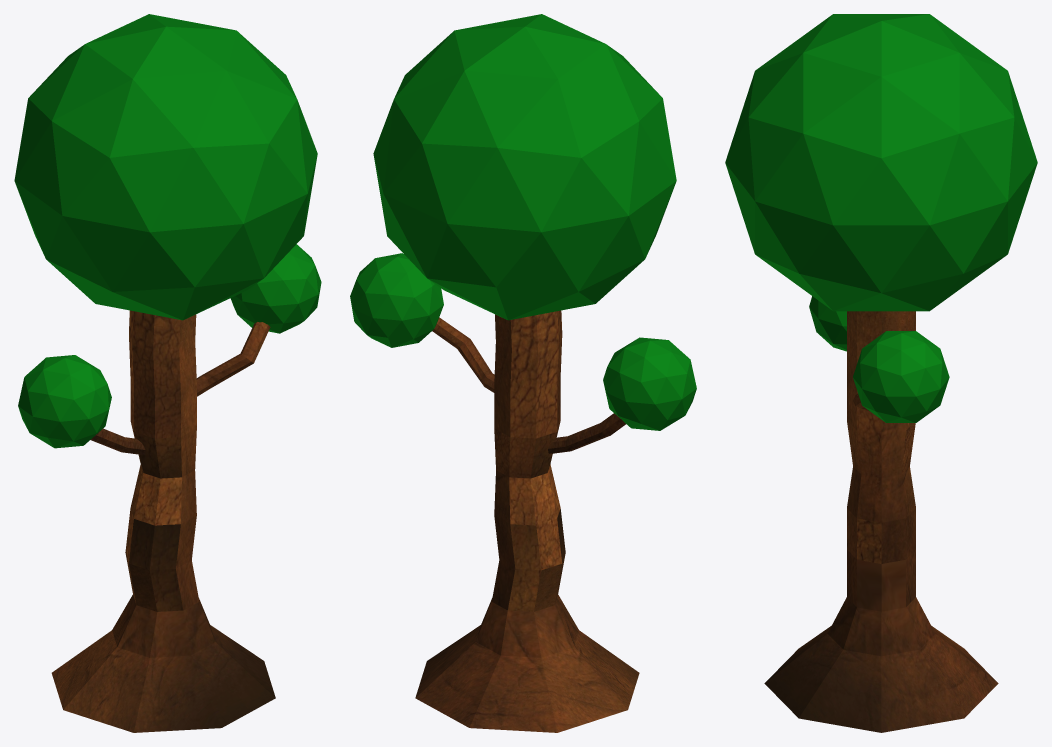
The model's file is Arbol.fbx.
The picture shows the model from 3 angles, left to right: view 1: azimuth 30°, elevation 25°; view 2: azimuth 150°, elevation 25°; view 3: azimuth 270°, elevation 25°; orthographic projection.
Visible parts, largest first — view 1: Tree; view 2: Tree; view 3: Tree.
Boxes of the visible parts, left/top/right/bottom form: Tree: left=14, top=14, right=321, bottom=732; Tree: left=350, top=14, right=696, bottom=732; Tree: left=725, top=14, right=1037, bottom=732.
Size of the model in its own units: 4.15 by 8.41 by 3.59.
